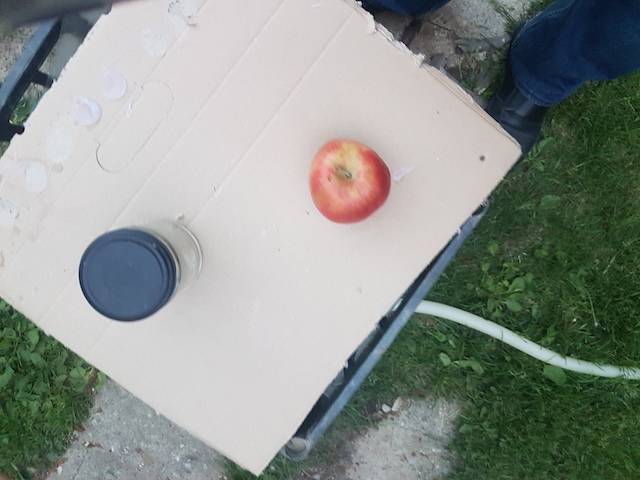apple: (311, 140, 392, 225)
recipient: (79, 229, 178, 323)
